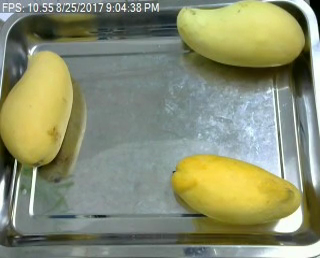Mango: (167, 150, 304, 226), (172, 1, 307, 71), (0, 50, 77, 168)
